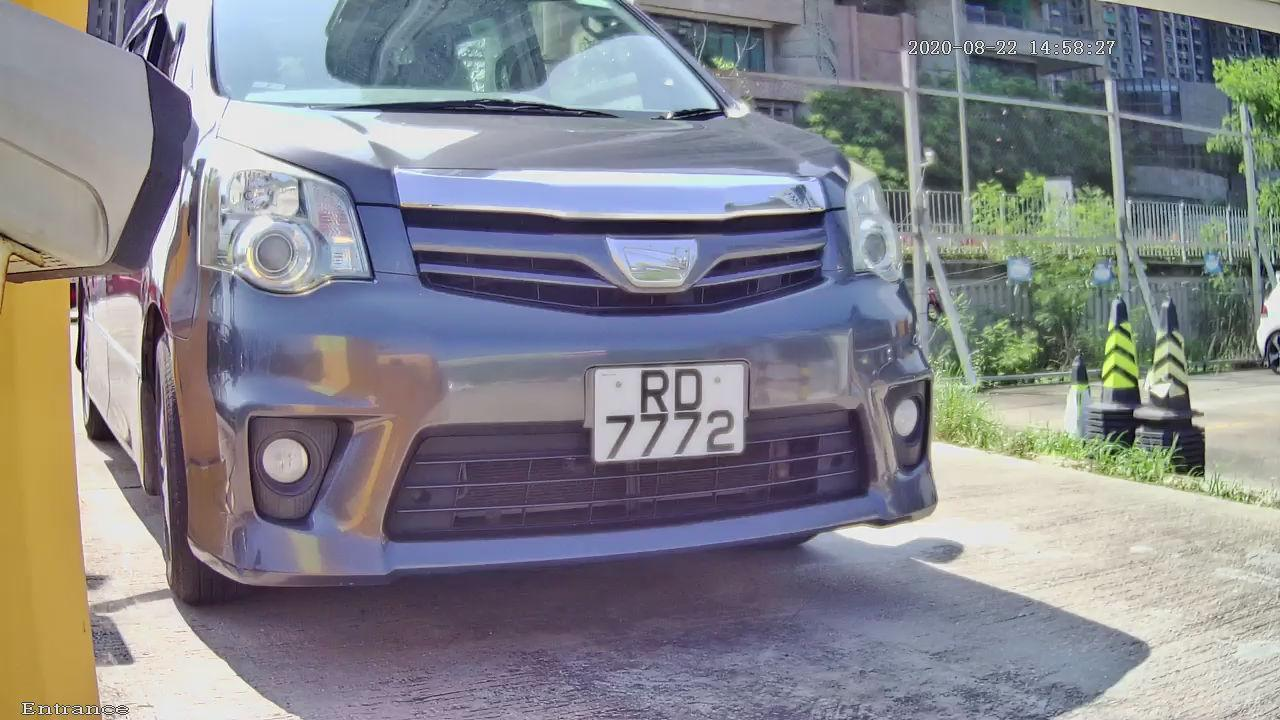License Plate: (572, 341, 761, 486)
